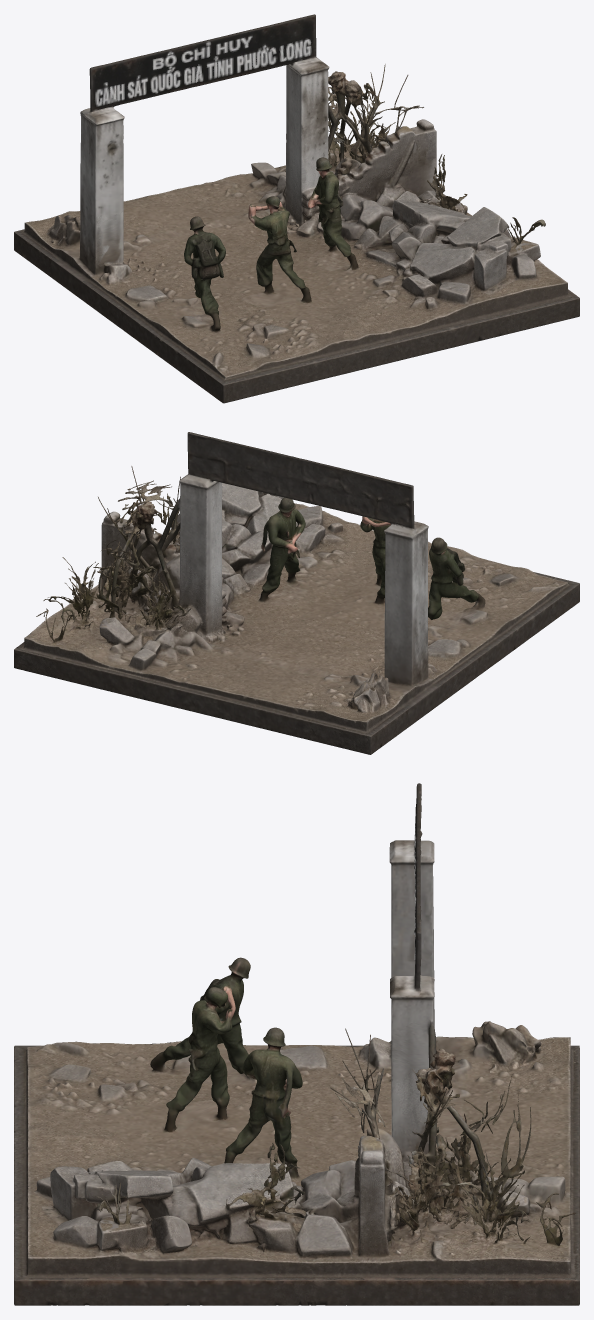
The model's file is chien_thang_phuoc_long.glb.
The picture shows the model from 3 angles, top to bottom: view 1: azimuth 30°, elevation 25°; view 2: azimuth 150°, elevation 25°; view 3: azimuth 270°, elevation 25°; orthographic projection. The views are drawn at different scales.
Size of the model in its own units: 1.87 by 1.11 by 1.9.
1 material, 1 textured.
